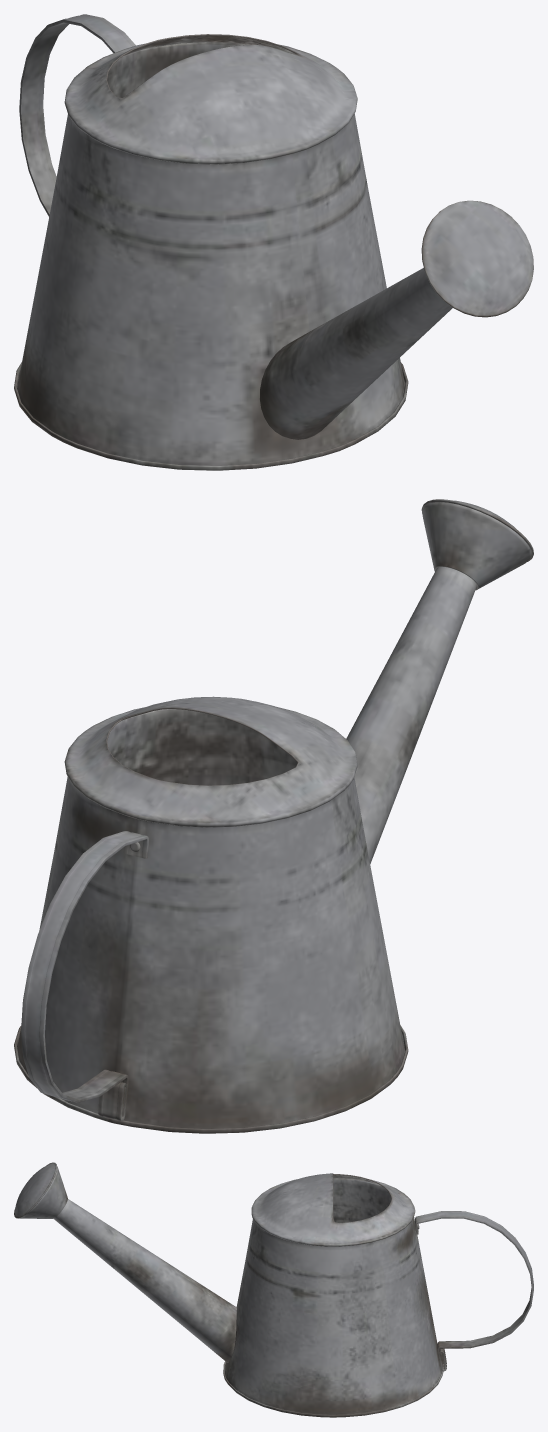
The model's file is watering_can_metal_01.glb.
3 renders of one model, top to bottom at view 1: azimuth 30°, elevation 25°; view 2: azimuth 150°, elevation 25°; view 3: azimuth 270°, elevation 25°, orthographic. The views are drawn at different scales.
Visible parts, largest first — view 1: watering_can_metal_01; view 2: watering_can_metal_01; view 3: watering_can_metal_01.
Part boxes in pixels (x1,y1,x2,y2): watering_can_metal_01: (14, 14, 533, 470); watering_can_metal_01: (14, 499, 533, 1133); watering_can_metal_01: (14, 1162, 533, 1417).
Bounding box in the file's own units: 0.191 × 0.1968 × 0.4523.
1 material, 1 textured.
